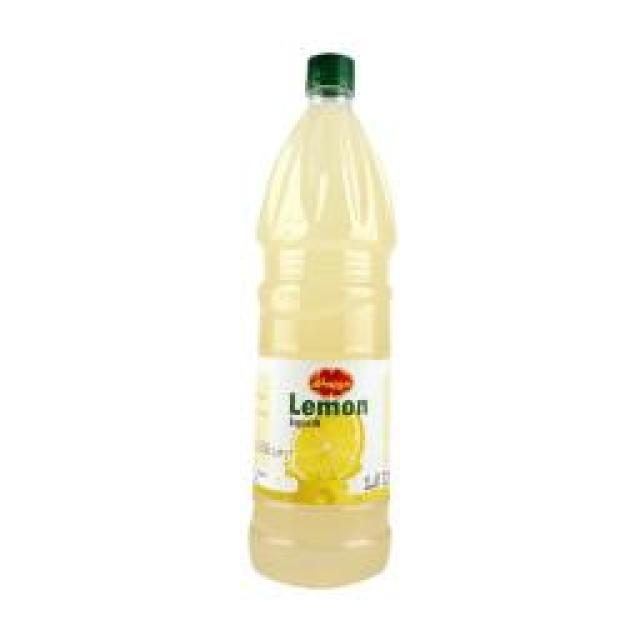bottle: (252, 52, 393, 587)
